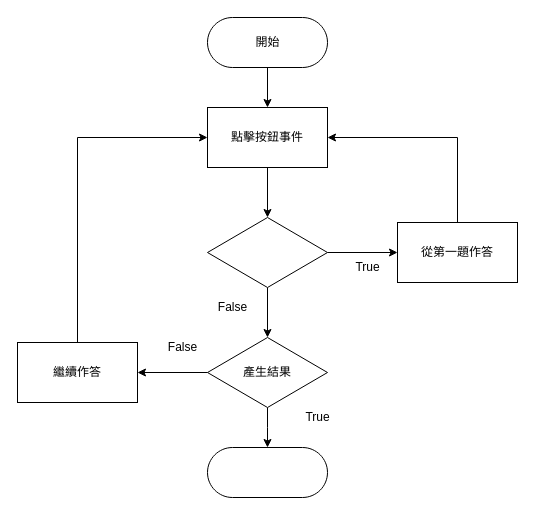
The diagram is 535 pixels wide and 515 high, and some of its shapes have lost their labels. The shapes that lost their labels are listed below. From the top down, each one's centre as x and y in pixels, then its label:
At pixel 267 252: "尚未作答".
At pixel 267 472: "結束".
